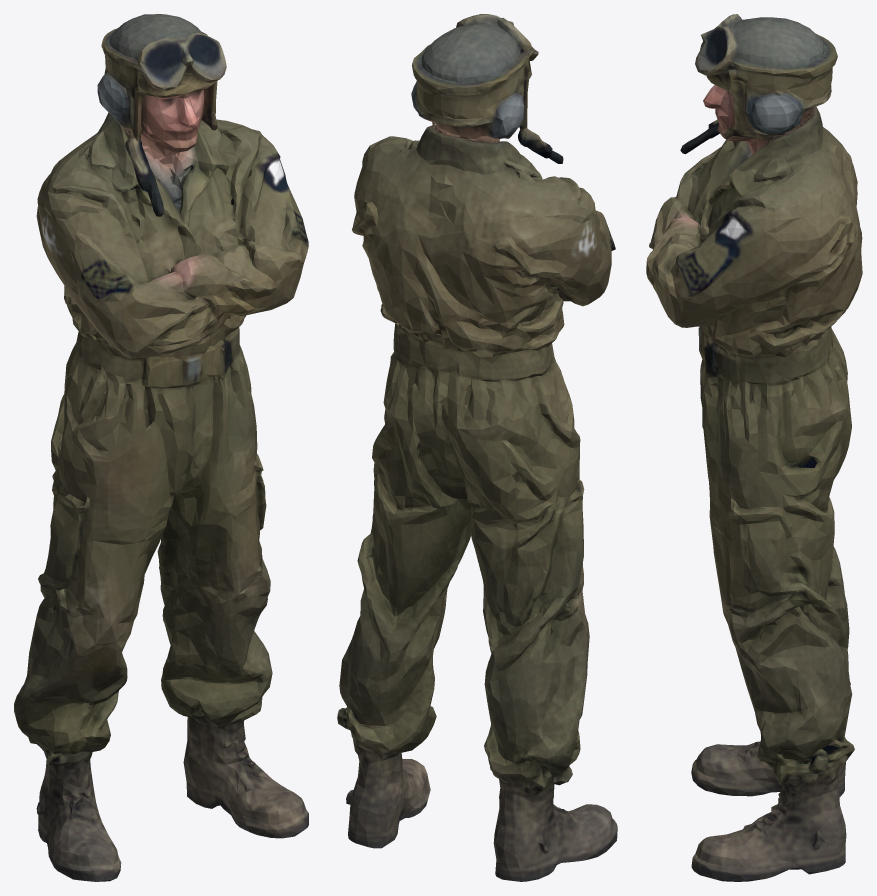
Rendered from crew_us_gunner.obj.
3 renders of one model, left to right at view 1: azimuth 30°, elevation 25°; view 2: azimuth 150°, elevation 25°; view 3: azimuth 270°, elevation 25°, orthographic.
Parts seen in each view (by area): view 1: crew_us_gunner; view 2: crew_us_gunner; view 3: crew_us_gunner.
Part boxes in pixels (bbox=[...]): crew_us_gunner: bbox=[14, 14, 308, 881]; crew_us_gunner: bbox=[337, 14, 617, 881]; crew_us_gunner: bbox=[646, 14, 862, 881].
Size of the model in its own units: 0.5653 by 1.8 by 0.4381.
1 material, 1 textured.
